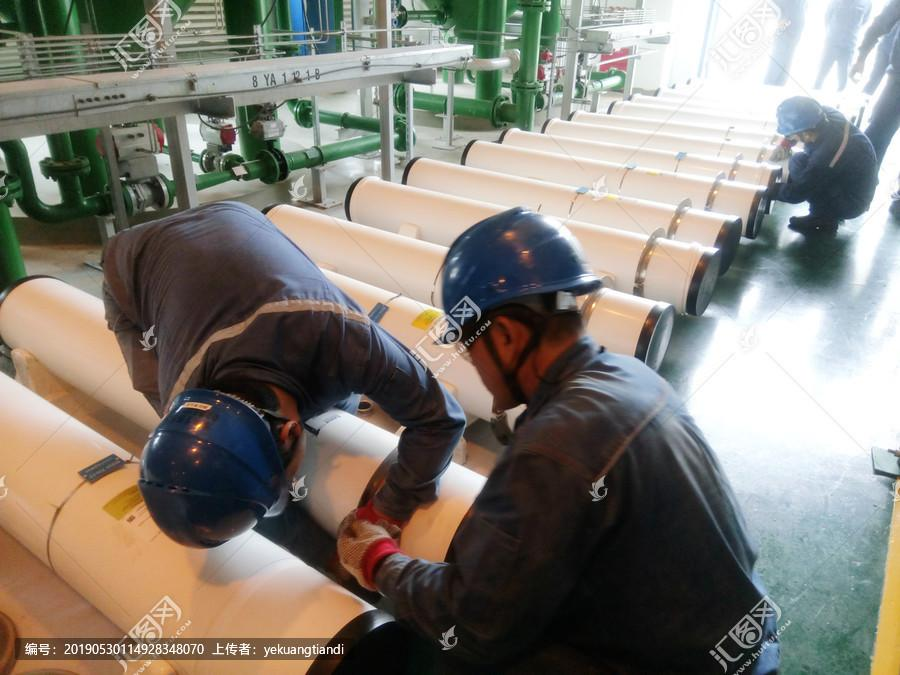helmet: (432, 205, 600, 334), (140, 394, 286, 540), (775, 99, 823, 141)
